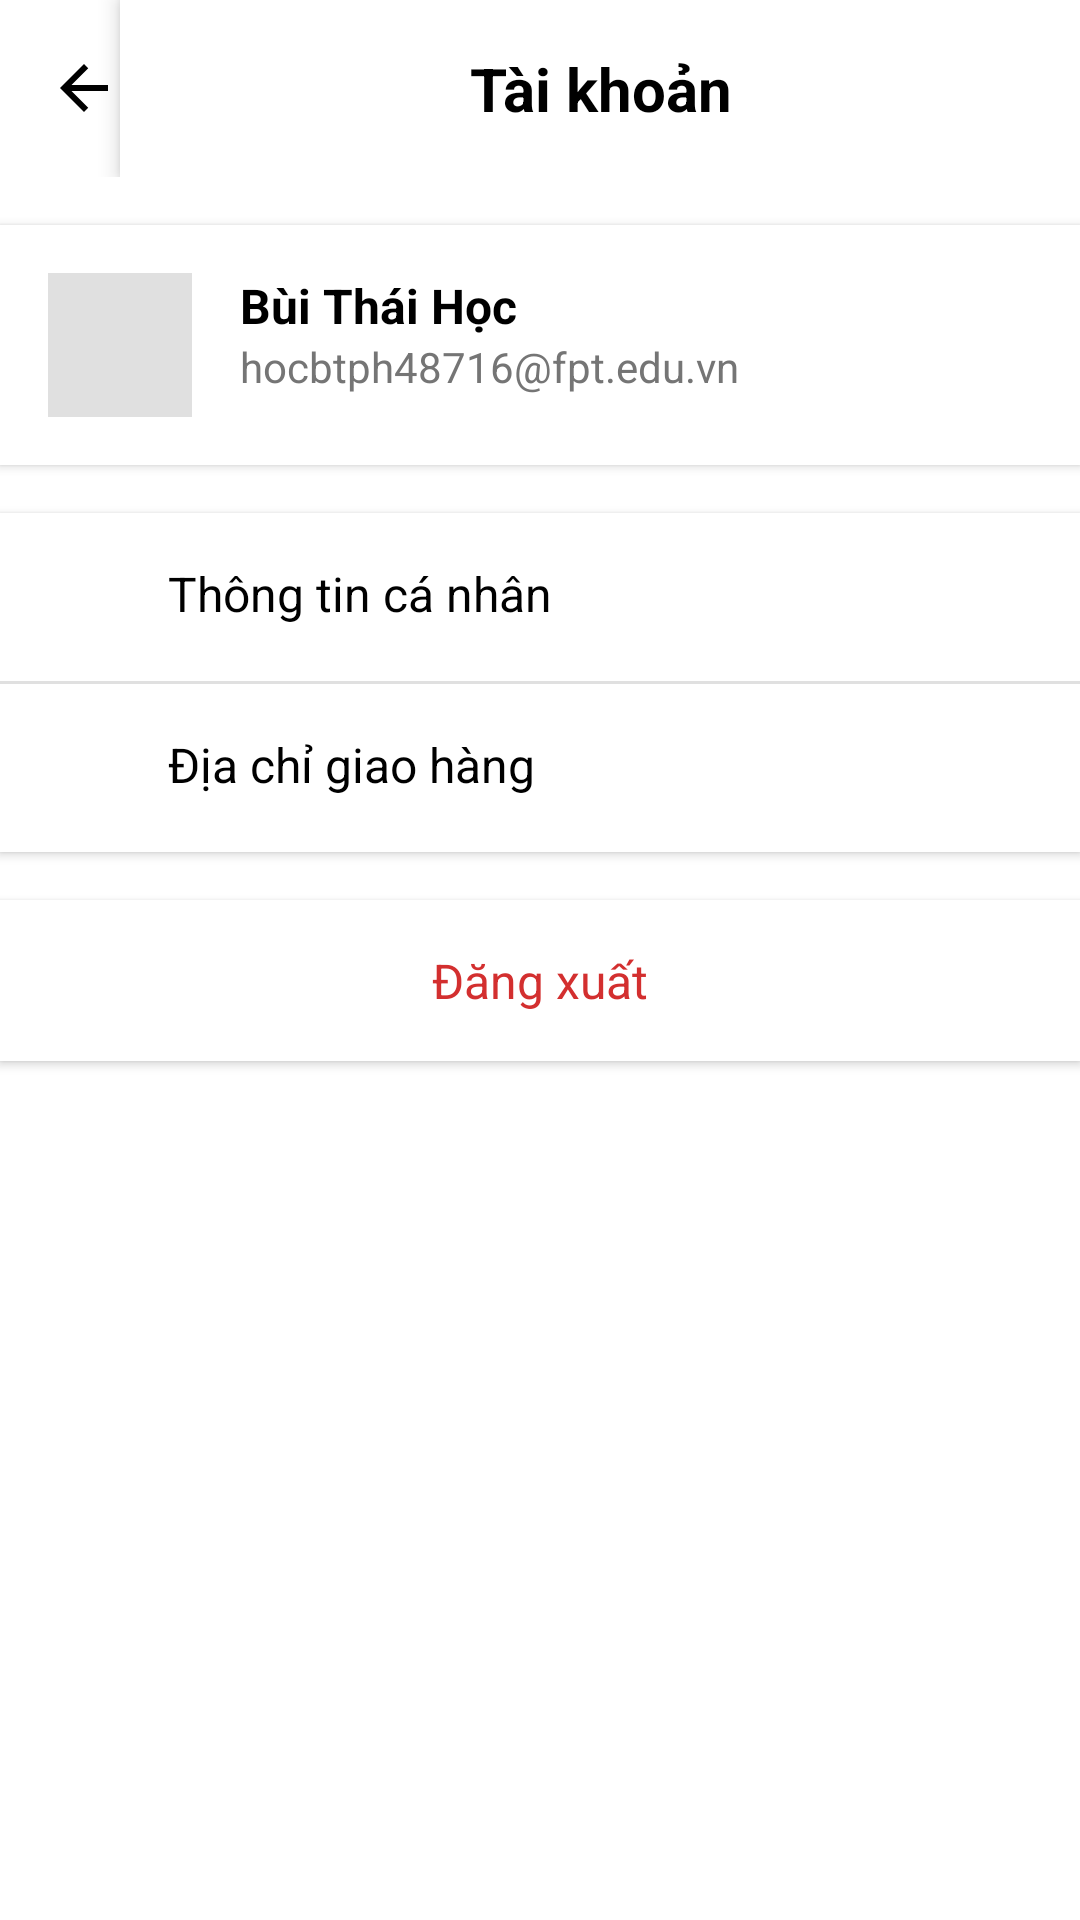

Icons on this 1080×1920 Android screen, each with the point to tap as point (x, y):
Back button: point (84, 88)
